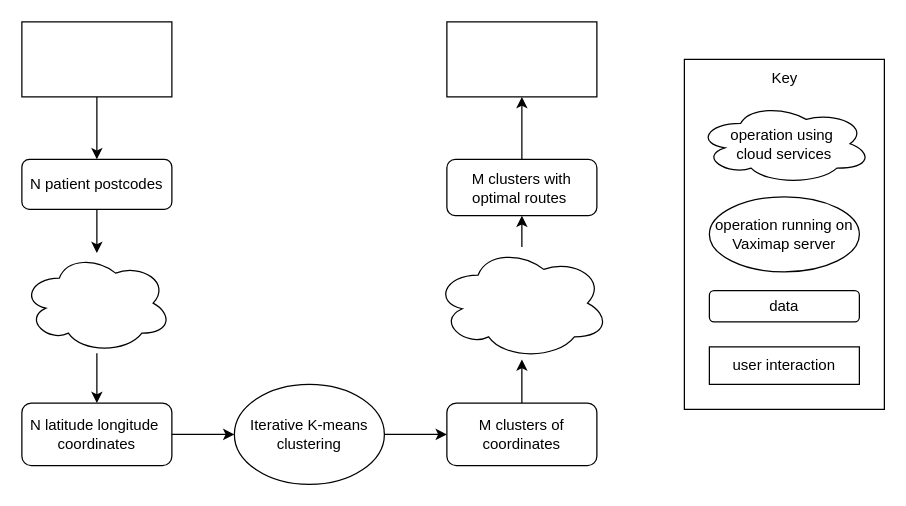
Image size: 906x506. Some labels were removed from this diagram. Here are the shapes that lost their labels. From the top down, the centre of each, then its label:
point (96, 59): User uploads patient postcodes as Excel
point (521, 59): User downloads results as Excel
point (96, 302): Geocoding
point (521, 302): Route optimisation within clusters
